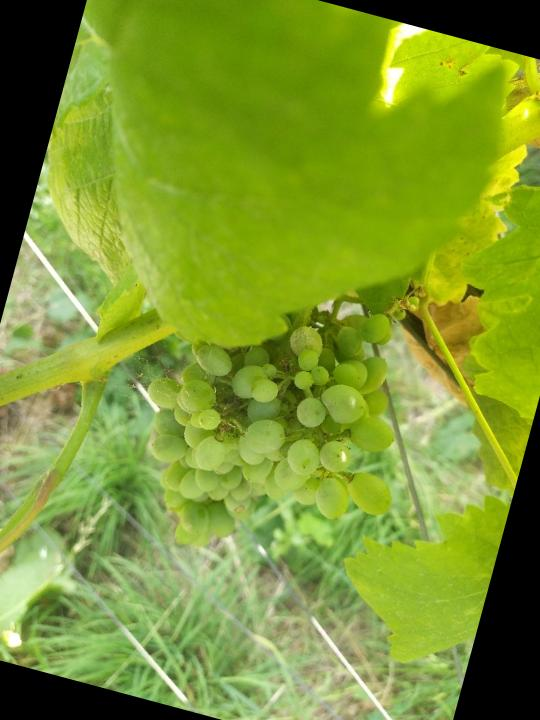grape: (103, 221, 452, 603)
